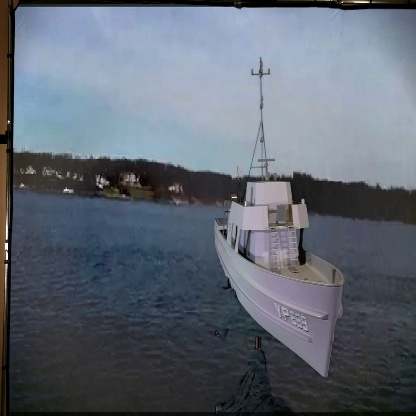YP689: (214, 60, 346, 381)
